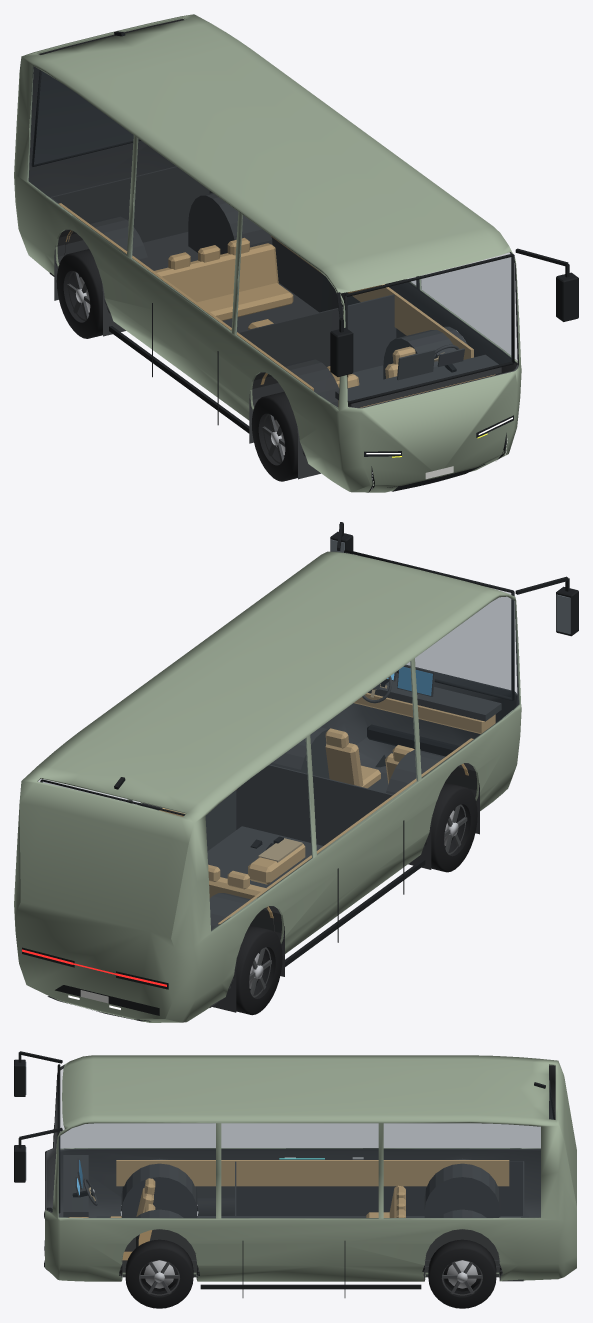
Rendered from training-light-truck.glb.
3 renders of one model, top to bottom at view 1: azimuth 30°, elevation 25°; view 2: azimuth 150°, elevation 25°; view 3: azimuth 270°, elevation 25°, orthographic. The views are drawn at different scales.
Parts seen in each view (by area): view 1: Body, Surface_CarRoot_Glass, Interior_CarRoot_InteriorLeather, Surface_CarRoot_BlackTrim, Interior_CarRoot_InteriorDark, InteriorWheelCabinEnd, InteriorWheelCabinEnd.001, InteriorWheelHousing.002, Surface_WheelFrontR_Tyre, Surface_WheelRearR_Tyre, InteriorWheelCabinSide.001, InteriorWheelHousing.001 (+2 smaller); view 2: Body, Surface_CarRoot_Glass, InteriorWheelCabinEnd, Surface_CarRoot_BlackTrim, Interior_CarRoot_InteriorLeather, Interior_CarRoot_InteriorDark, Surface_WheelRearR_Tyre, Surface_WheelFrontR_Tyre, InteriorWheelHousing.001, InteriorWheelHousing.003, InteriorWheelHousing, InteriorWheelCabinSide.001 (+2 smaller); view 3: Body, Surface_CarRoot_Glass, Interior_CarRoot_InteriorLeather, InteriorWheelCabinSide, Surface_CarRoot_BlackTrim, InteriorWheelHousing.003, Surface_WheelFrontL_Tyre, Surface_WheelRearL_Tyre, InteriorWheelHousing.001, Interior_CarRoot_InteriorDark, InteriorWheelHousing.002, InteriorWheelHousing (+4 smaller).
Part boxes in pixels (left/top/right/bottom): Body: left=14, top=14, right=521, bottom=492; Surface_CarRoot_Glass: left=27, top=66, right=517, bottom=407; Interior_CarRoot_InteriorLeather: left=58, top=203, right=495, bottom=407; Surface_CarRoot_BlackTrim: left=31, top=31, right=578, bottom=492; Interior_CarRoot_InteriorDark: left=143, top=232, right=501, bottom=407; InteriorWheelCabinEnd: left=238, top=294, right=395, bottom=372; InteriorWheelCabinEnd.001: left=50, top=166, right=209, bottom=242; InteriorWheelHousing.002: left=188, top=193, right=272, bottom=254; Surface_WheelFrontR_Tyre: left=252, top=391, right=297, bottom=481; Surface_WheelRearR_Tyre: left=56, top=249, right=102, bottom=338; InteriorWheelCabinSide.001: left=209, top=191, right=396, bottom=337; InteriorWheelHousing.001: left=249, top=359, right=339, bottom=479; Body: left=14, top=551, right=521, bottom=1022; Surface_CarRoot_Glass: left=38, top=590, right=520, bottom=931; InteriorWheelCabinEnd: left=236, top=764, right=393, bottom=845; Surface_CarRoot_BlackTrim: left=22, top=522, right=578, bottom=1021; Interior_CarRoot_InteriorLeather: left=159, top=693, right=495, bottom=924; Interior_CarRoot_InteriorDark: left=207, top=665, right=501, bottom=887; Surface_WheelRearR_Tyre: left=236, top=925, right=282, bottom=1015; Surface_WheelFrontR_Tyre: left=431, top=782, right=477, bottom=872; InteriorWheelHousing.001: left=386, top=750, right=479, bottom=869; InteriorWheelHousing.003: left=209, top=893, right=284, bottom=1012; InteriorWheelHousing: left=270, top=726, right=329, bottom=778; InteriorWheelCabinSide.001: left=205, top=790, right=236, bottom=850; Body: left=45, top=1055, right=576, bottom=1281; Surface_CarRoot_Glass: left=59, top=1069, right=553, bottom=1218; Interior_CarRoot_InteriorLeather: left=68, top=1160, right=509, bottom=1245; InteriorWheelCabinSide: left=236, top=1161, right=523, bottom=1215; Surface_CarRoot_BlackTrim: left=14, top=1051, right=554, bottom=1297; InteriorWheelHousing.003: left=424, top=1158, right=500, bottom=1217; Surface_WheelFrontL_Tyre: left=125, top=1239, right=193, bottom=1308; Surface_WheelRearL_Tyre: left=428, top=1239, right=496, bottom=1308; InteriorWheelHousing.001: left=121, top=1158, right=197, bottom=1217; Interior_CarRoot_InteriorDark: left=63, top=1155, right=528, bottom=1262; InteriorWheelHousing.002: left=425, top=1209, right=499, bottom=1277; InteriorWheelHousing: left=122, top=1209, right=196, bottom=1277.
Size of the model in its own units: 2.94 by 2.86 by 7.65.
